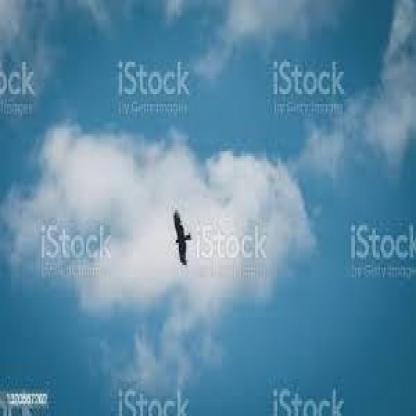bird: (149, 192, 210, 272)
